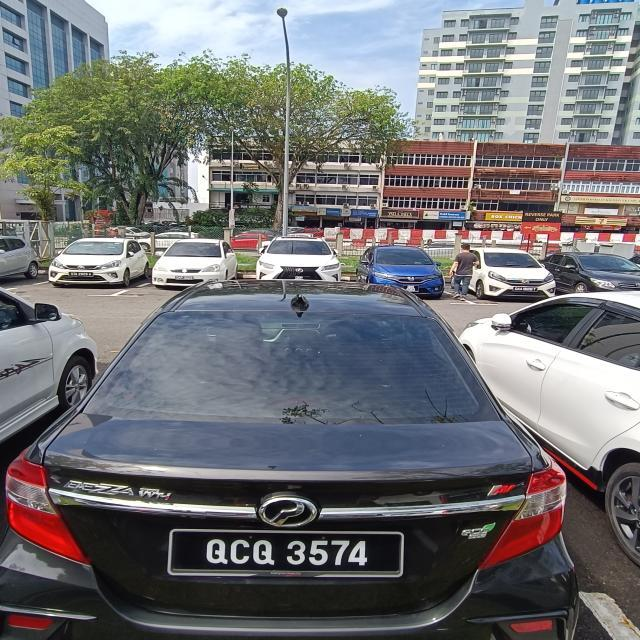PeroduaBezza: (1, 276, 582, 638)
